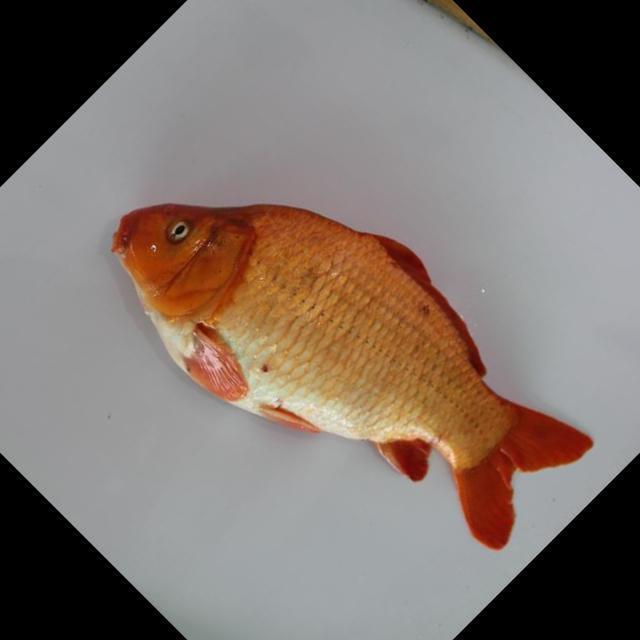Gold-Fish: (36, 84, 640, 548)
